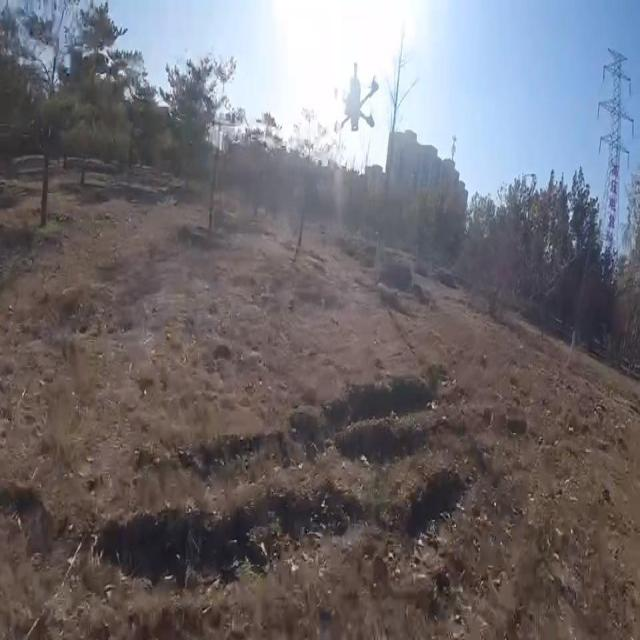drone: (328, 62, 382, 144)
